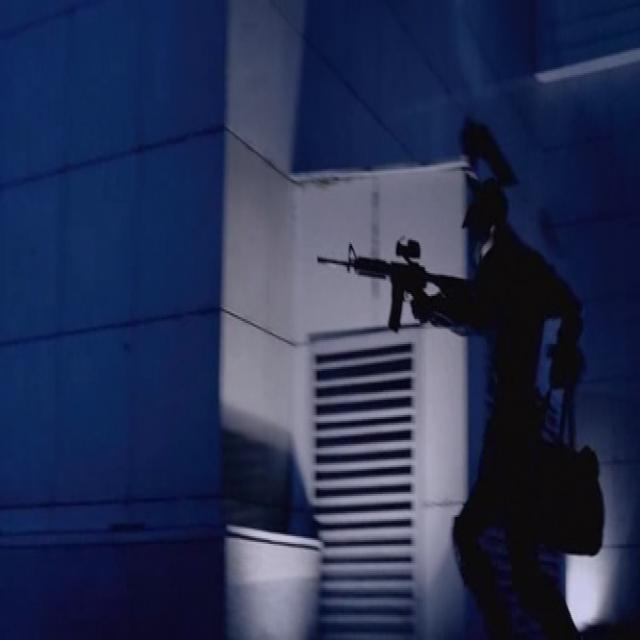rifle: (314, 234, 478, 345)
